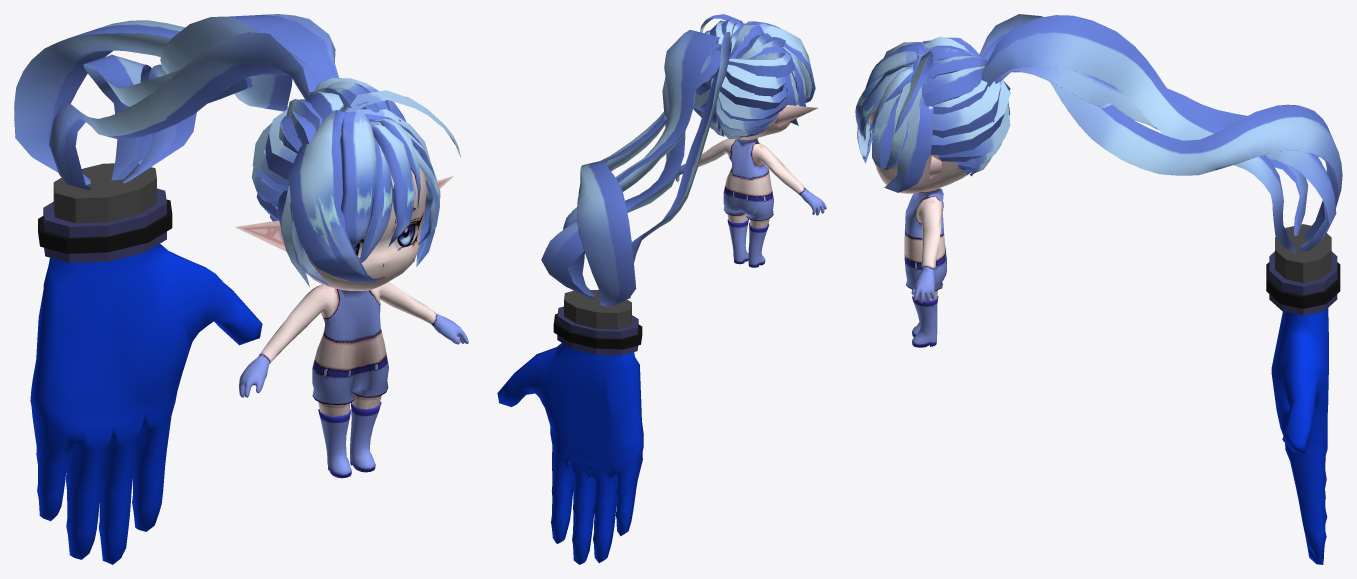
Rendered from blue.fbx.
The picture shows the model from 3 angles, left to right: view 1: azimuth 30°, elevation 25°; view 2: azimuth 150°, elevation 25°; view 3: azimuth 270°, elevation 25°; orthographic projection. The views are drawn at different scales.
Parts seen in each view (by area): view 1: polySurface80, polySurface79, polySurface54, polySurface56, polySurface41, polySurface42, polySurface52, polySurface55, polySurface84, polySurface77, polySurface83, polySurface50 (+14 smaller); view 2: polySurface80, polySurface78, polySurface50, polySurface54, polySurface84, polySurface55, polySurface52, polySurface83, polySurface82, polySurface79, polySurface60, polySurface62 (+13 smaller); view 3: polySurface50, polySurface78, polySurface80, polySurface52, polySurface84, polySurface41, polySurface45, polySurface55, polySurface66, polySurface83, polySurface82, polySurface76 (+10 smaller).
Boxes of the visible parts, x1=… form: polySurface80: x1=30, y1=244, x2=262, y2=564; polySurface79: x1=49, y1=32, x2=309, y2=188; polySurface54: x1=239, y1=231, x2=384, y2=416; polySurface56: x1=14, y1=33, x2=292, y2=184; polySurface41: x1=340, y1=111, x2=420, y2=262; polySurface42: x1=288, y1=110, x2=377, y2=283; polySurface52: x1=352, y1=167, x2=468, y2=409; polySurface55: x1=53, y1=163, x2=156, y2=223; polySurface84: x1=83, y1=48, x2=319, y2=180; polySurface77: x1=123, y1=16, x2=306, y2=183; polySurface83: x1=43, y1=188, x2=166, y2=262; polySurface50: x1=160, y1=14, x2=340, y2=110; polySurface80: x1=497, y1=343, x2=643, y2=564; polySurface78: x1=577, y1=49, x2=720, y2=306; polySurface50: x1=563, y1=30, x2=719, y2=296; polySurface54: x1=740, y1=80, x2=826, y2=228; polySurface84: x1=541, y1=43, x2=721, y2=299; polySurface55: x1=564, y1=290, x2=631, y2=329; polySurface52: x1=675, y1=114, x2=747, y2=222; polySurface83: x1=557, y1=306, x2=638, y2=355; polySurface82: x1=632, y1=36, x2=723, y2=256; polySurface79: x1=629, y1=31, x2=731, y2=298; polySurface60: x1=694, y1=78, x2=788, y2=121; polySurface62: x1=725, y1=64, x2=786, y2=96; polySurface50: x1=981, y1=15, x2=1295, y2=253; polySurface78: x1=1050, y1=82, x2=1342, y2=201; polySurface80: x1=1271, y1=308, x2=1328, y2=564; polySurface52: x1=868, y1=107, x2=966, y2=303; polySurface84: x1=994, y1=66, x2=1336, y2=250; polySurface41: x1=855, y1=46, x2=917, y2=140; polySurface45: x1=884, y1=55, x2=933, y2=192; polySurface55: x1=1275, y1=224, x2=1331, y2=282; polySurface66: x1=932, y1=81, x2=1001, y2=138; polySurface83: x1=1269, y1=251, x2=1337, y2=315; polySurface82: x1=978, y1=14, x2=1308, y2=235; polySurface76: x1=922, y1=66, x2=984, y2=106.
Bounding box in the file's own units: 11.14 × 28.05 × 22.97.
8 materials, 4 textured.
